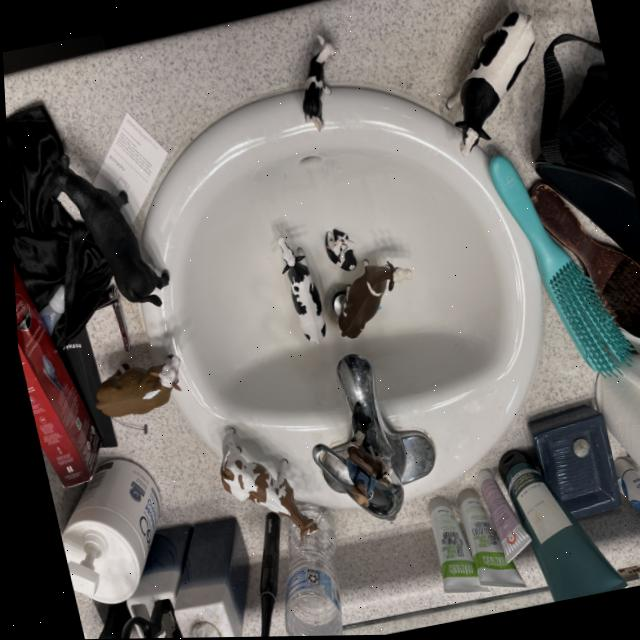cow: (38, 145, 187, 320), (426, 0, 544, 165), (192, 426, 335, 545), (313, 244, 411, 345), (267, 233, 331, 348), (84, 354, 186, 425), (294, 35, 341, 133), (336, 438, 397, 492), (319, 228, 355, 275)
person: (340, 454, 374, 509)
